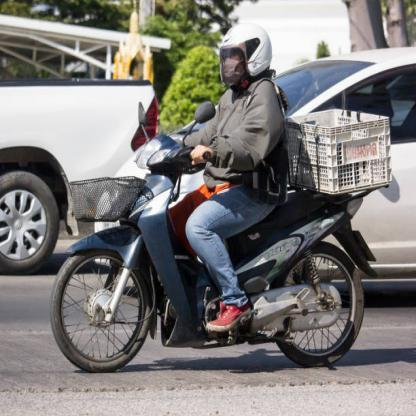Motorcycle: (49, 98, 374, 372)
